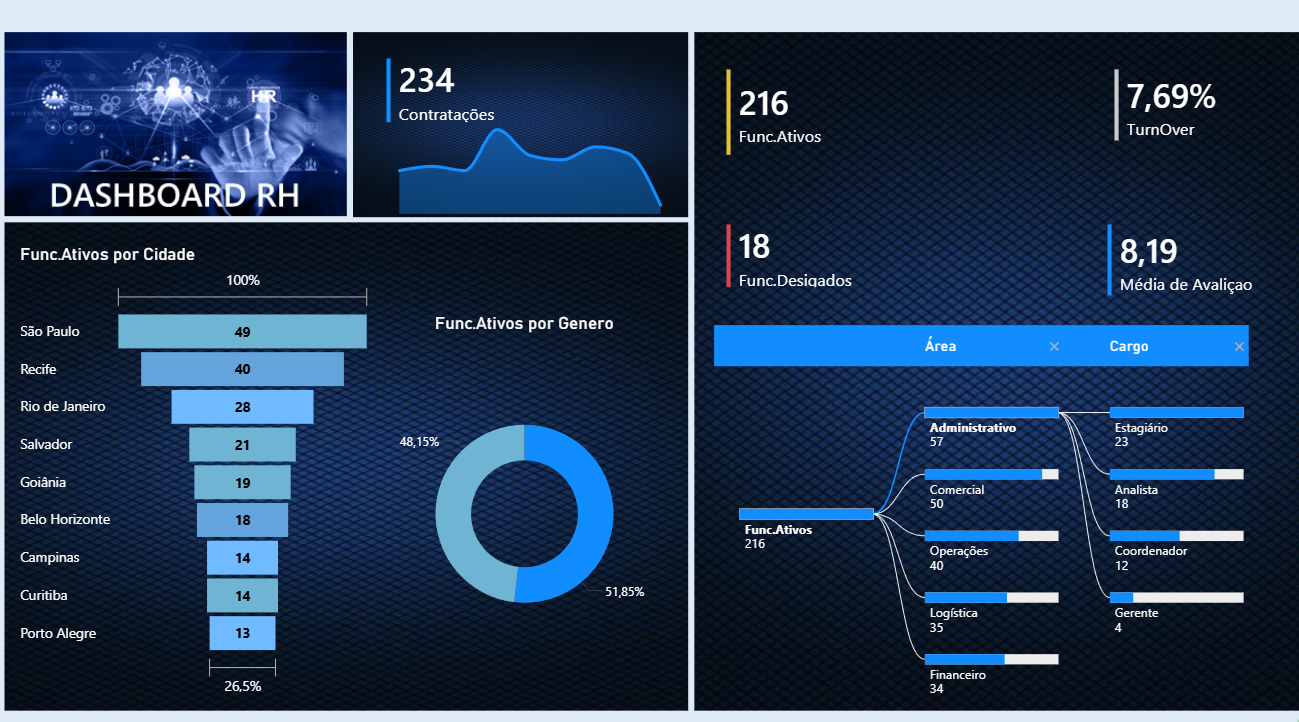

This screenshot's page, from the dashboard's own definition file:
{"tool":"powerbi","page":{"name":"Página 1","canvas":[1280,720],"ordinal":0},"visuals":[{"type":"donutChart","fields":{"Category":["Plan1.Genero"],"Y":["Plan1.Func.Ativos"]},"box":[371.6,315.1,302.5,371.6],"z":5000},{"type":"funnel","fields":{"Y":["Plan1.Func.Ativos"],"Category":["Plan1.Cidade"]},"box":[27.2,248,352.1,444.5],"z":6000},{"type":"lineChart","fields":{"Category":["Plan1.Data de Contratacao.Variation.Hierarquia de datas.Ano","Plan1.Data de Contratacao.Variation.Hierarquia de datas.Trimestre","Plan1.Data de Contratacao.Variation.Hierarquia de datas.Mês","Plan1.Data de Contratacao.Variation.Hierarquia de datas.Dia"],"Y":["Plan1.Func.Ativos"]},"box":[386.1,120.6,284,104.1],"z":8000},{"type":"decompositionTreeVisual","fields":{"Analyze":["Plan1.Func.Ativos"],"ExplainBy":["Plan1.Área","Plan1.Cargo"]},"box":[702.2,321.9,530.1,377.4],"z":10000},{"type":"cardVisual","fields":{"Data":["Plan1.Func.Ativos"]},"box":[702.2,61.3,188.7,117.7],"z":10001},{"type":"cardVisual","fields":{"Data":["Plan1.Func.Desigados"]},"box":[702.2,212,188.7,95.3],"z":10002},{"type":"cardVisual","fields":{"Data":["Plan1.TurnOver"]},"box":[1079.6,61.3,180.9,103.1],"z":10003},{"type":"cardVisual","fields":{"Data":["Plan1.Média de Avaliçao"]},"box":[1072.8,212,193.6,103.1],"z":10004},{"type":"cardVisual","fields":{"Data":["Plan1.Contratações"]},"box":[371.6,50.6,180.9,96.3],"z":10005}]}

Visuals, with their boxes in screenshot pixels (x1, y1, x2, y2), scaled from the page's 1280x720 canvas onto the 1299x722 screenshot:
donutChart - Plan1.Genero x Plan1.Func.Ativos: [left=377, top=316, right=684, bottom=689]
funnel - Plan1.Func.Ativos x Plan1.Cidade: [left=28, top=249, right=385, bottom=694]
lineChart - Plan1.Data de Contratacao.Variation.Hierarquia de datas.Ano x Plan1.Data de Contratacao.Variation.Hierarquia de datas.Trimestre: [left=392, top=121, right=680, bottom=225]
decompositionTreeVisual - Plan1.Func.Ativos x Plan1.Área: [left=713, top=323, right=1251, bottom=701]
cardVisual - Plan1.Func.Ativos: [left=713, top=61, right=904, bottom=179]
cardVisual - Plan1.Func.Desigados: [left=713, top=213, right=904, bottom=308]
cardVisual - Plan1.TurnOver: [left=1096, top=61, right=1279, bottom=165]
cardVisual - Plan1.Média de Avaliçao: [left=1089, top=213, right=1285, bottom=316]
cardVisual - Plan1.Contratações: [left=377, top=51, right=561, bottom=147]
